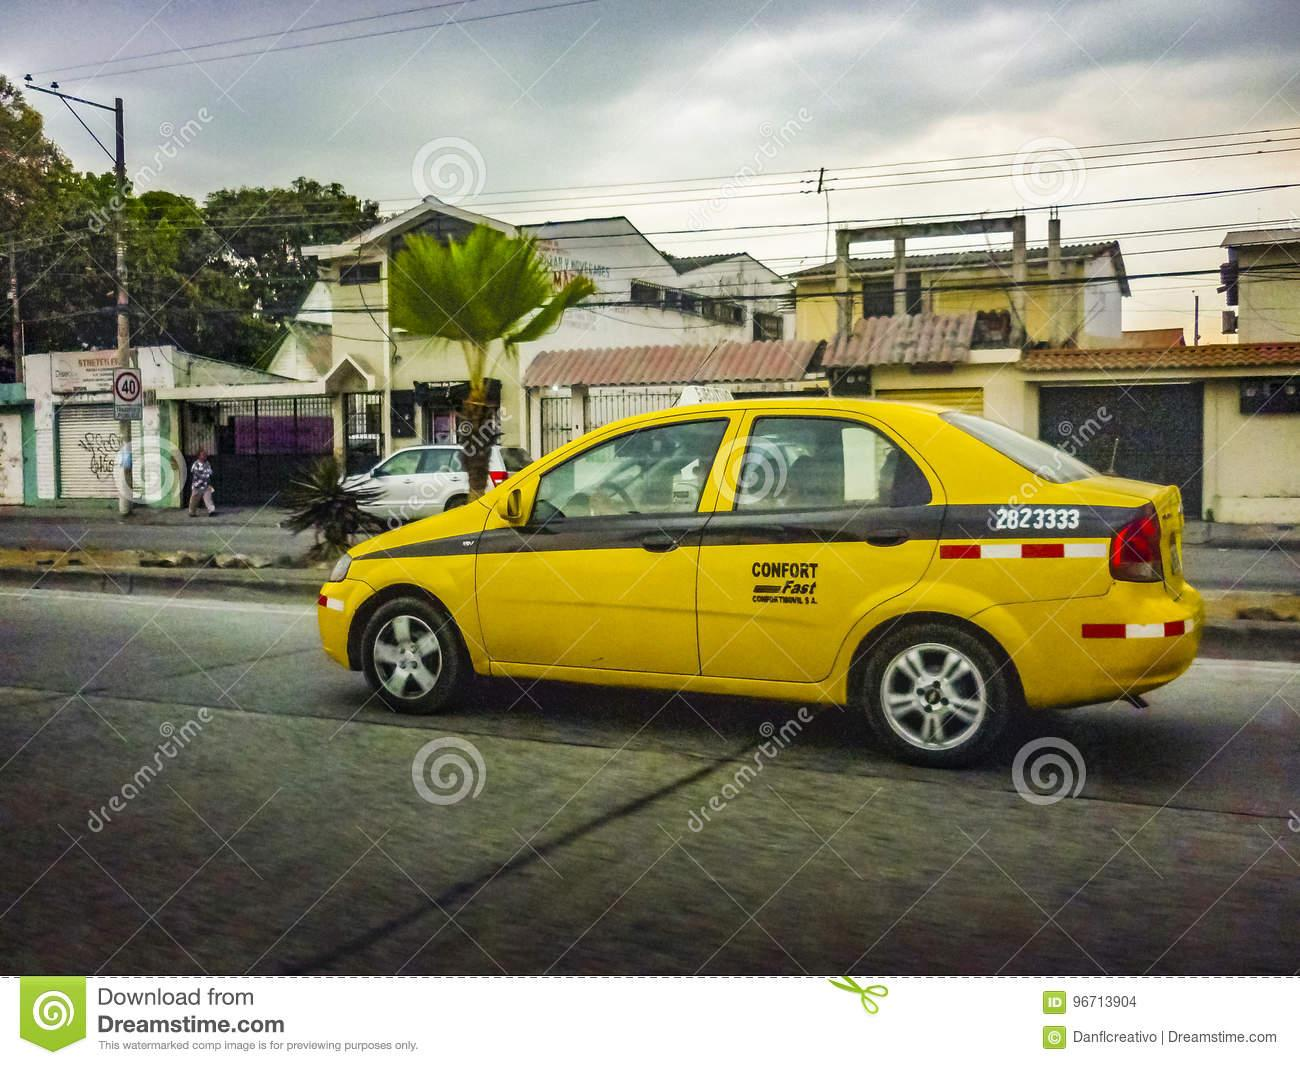taxi: (277, 377, 1195, 760)
